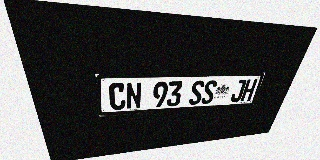3: (166, 81, 183, 107)
9: (152, 81, 169, 108)
C: (108, 82, 126, 110)
H: (240, 79, 258, 101)
J: (230, 79, 247, 102)
N: (126, 82, 142, 109)
S: (200, 80, 218, 104), (188, 80, 205, 105)
